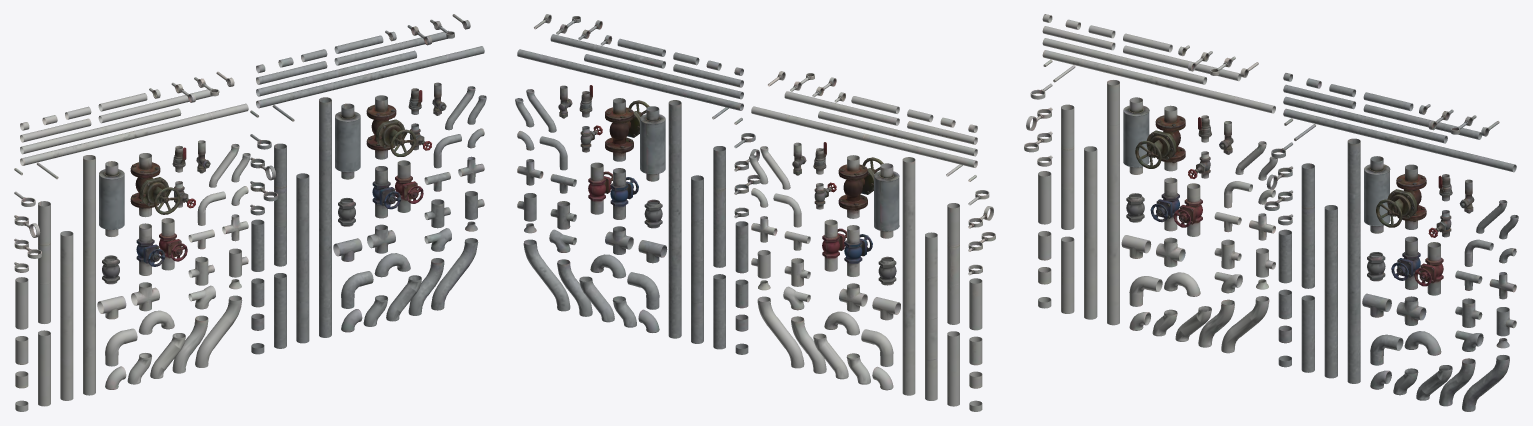
The model's file is modular_pipes_lod1.glb.
The picture shows the model from 3 angles, left to right: view 1: azimuth 30°, elevation 25°; view 2: azimuth 150°, elevation 25°; view 3: azimuth 330°, elevation 25°; orthographic projection. The views are drawn at different scales.
Parts seen in each view (by area): view 1: pipe_5cm_pvc, pipe_5cm_metal; view 2: pipe_5cm_pvc, pipe_5cm_metal; view 3: pipe_5cm_metal, pipe_5cm_pvc.
Boxes of the visible parts, <box> form: pipe_5cm_pvc: <box>14,71,250,411</box>; pipe_5cm_metal: <box>250,14,486,354</box>; pipe_5cm_pvc: <box>749,71,995,411</box>; pipe_5cm_metal: <box>515,14,760,354</box>; pipe_5cm_metal: <box>1264,73,1518,411</box>; pipe_5cm_pvc: <box>1024,14,1277,353</box>.
Bounding box in the file's own units: 4.19 × 2.43 × 0.4578.
Materials: 2 (2 with a texture image).
